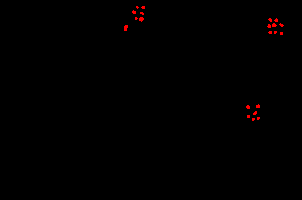Target: (139, 17, 144, 22), (124, 25, 128, 31), (272, 23, 277, 27), (279, 23, 284, 27), (132, 10, 136, 14), (268, 18, 272, 22), (274, 18, 278, 22), (267, 24, 271, 28), (256, 104, 260, 108), (246, 105, 250, 109), (253, 111, 257, 115), (141, 6, 145, 9), (140, 12, 144, 15), (268, 31, 272, 34), (136, 6, 139, 9), (135, 17, 138, 20), (274, 31, 277, 34), (280, 32, 283, 35), (247, 115, 250, 118), (257, 117, 260, 120), (252, 118, 255, 121)
